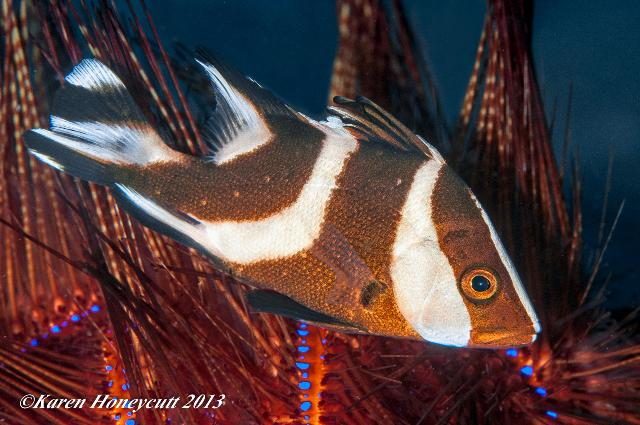Mulut: (436, 306, 564, 366)
Sirip Anal: (95, 171, 209, 260)
Sirip Dada: (288, 201, 392, 317)
Sirip Ekor: (14, 44, 172, 196)
Sirip Perut: (230, 276, 370, 352)
Sirip Punggung: (177, 36, 456, 176)
